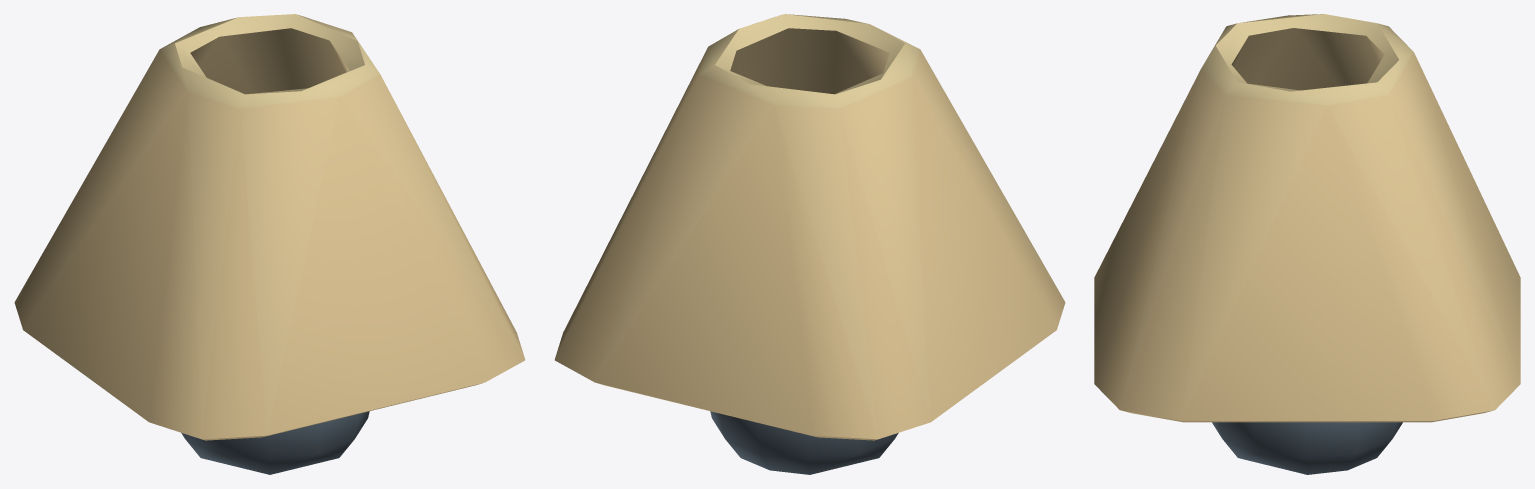
The model's file is table-lamp.low.92058dc9.glb.
3 renders of one model, left to right at view 1: azimuth 30°, elevation 25°; view 2: azimuth 150°, elevation 25°; view 3: azimuth 270°, elevation 25°, orthographic.
Parts seen in each view (by area): view 1: table-lamp; view 2: table-lamp; view 3: table-lamp.
Boxes of the visible parts, left/top/right/bottom form: table-lamp: left=14, top=14, right=525, bottom=474; table-lamp: left=554, top=14, right=1065, bottom=474; table-lamp: left=1094, top=14, right=1520, bottom=474.
Bounding box in the file's own units: 0.5472 × 0.55 × 0.5472.
